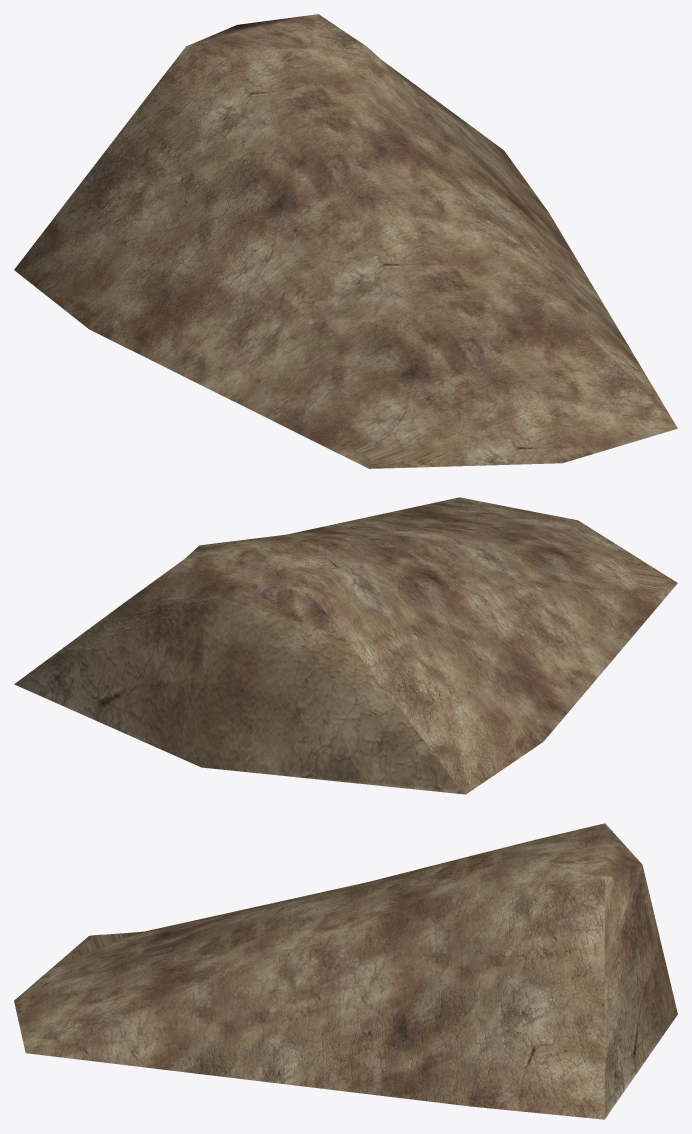
The model's file is dirt_ramp.fbx.
3 renders of one model, top to bottom at view 1: azimuth 30°, elevation 25°; view 2: azimuth 150°, elevation 25°; view 3: azimuth 270°, elevation 25°, orthographic. The views are drawn at different scales.
Visible parts, largest first — view 1: ramp_hi; view 2: ramp_hi; view 3: ramp_hi.
Boxes of the visible parts, x1,y1,x2,y2 form: ramp_hi: (14, 14, 677, 468); ramp_hi: (14, 497, 677, 794); ramp_hi: (14, 823, 677, 1119).
Bounding box in the file's own units: 14936 × 5233 × 19707.
Materials: 1 (1 with a texture image).
